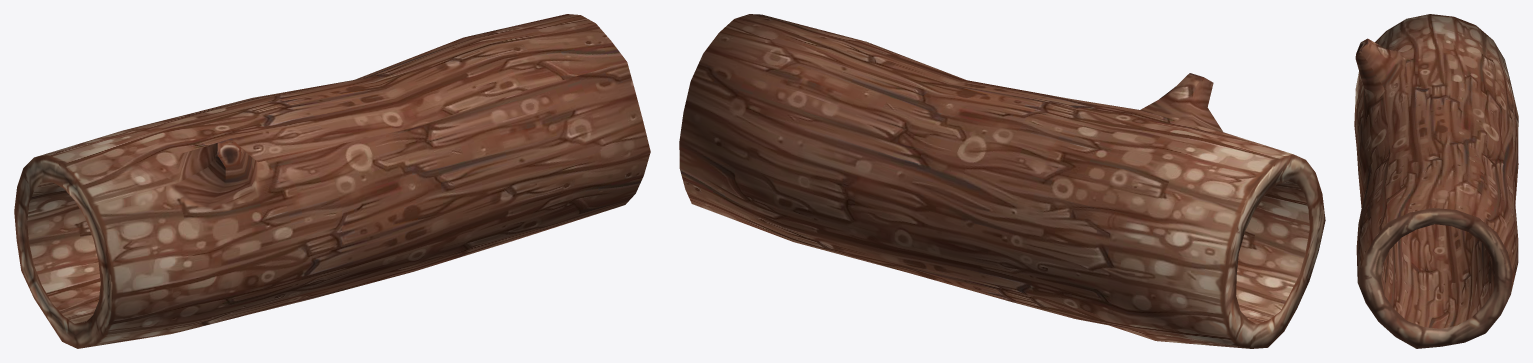
File: Trunk.fbx
3 renders of one model, left to right at view 1: azimuth 30°, elevation 25°; view 2: azimuth 150°, elevation 25°; view 3: azimuth 270°, elevation 25°, orthographic. The views are drawn at different scales.
Parts seen in each view (by area): view 1: Trunk; view 2: Trunk; view 3: Trunk.
Boxes of the visible parts, x1,y1,x2,y2 form: Trunk: [14, 14, 650, 348]; Trunk: [679, 14, 1325, 348]; Trunk: [1354, 14, 1518, 348].
Bounding box in the file's own units: 127 × 47.89 × 43.3.
